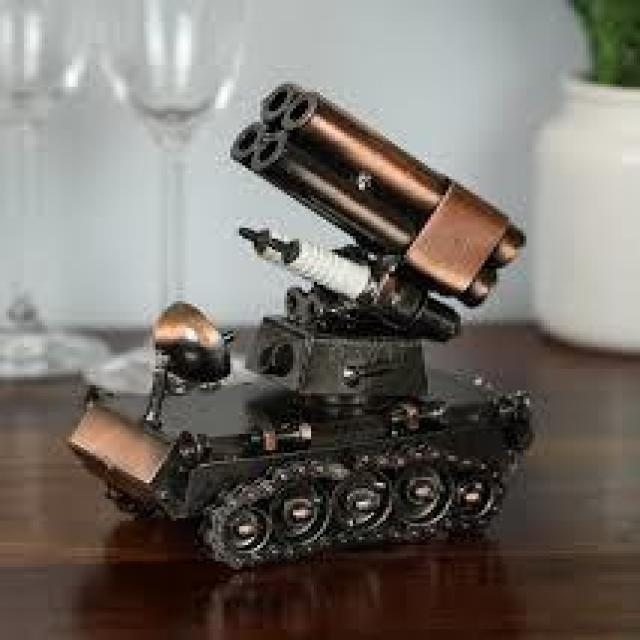Tanks: (193, 436, 555, 586)
